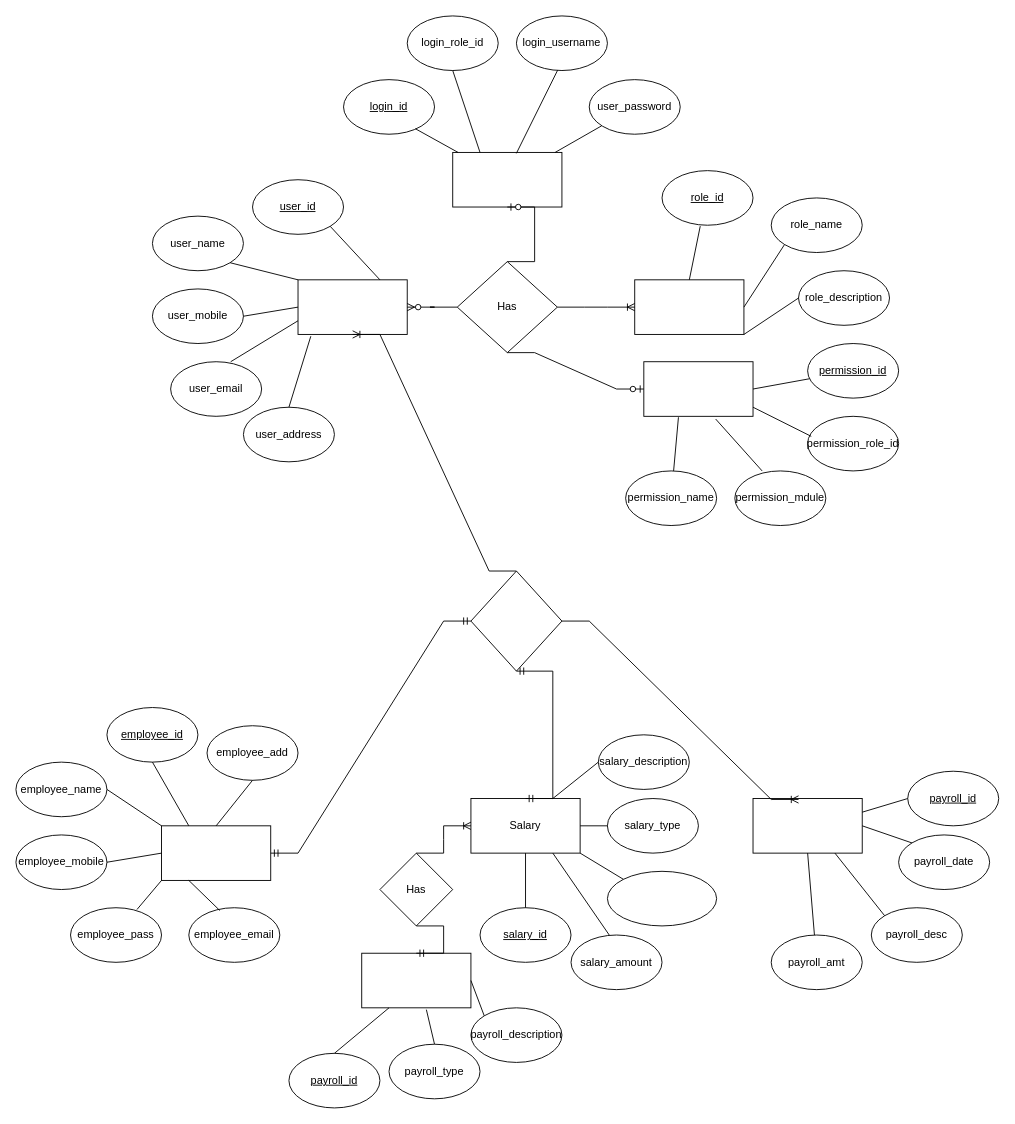
Image size: 1015x1124. Some labels were removed from this diagram. Here are the shapes that lost their labels. From the top down, the box of each, then its label:
(452, 152, 562, 207): Login
(297, 279, 407, 334): User
(634, 279, 744, 334): Roles
(643, 361, 753, 416): Permission
(470, 570, 562, 671): Manage
(752, 798, 862, 853): Paymets
(161, 825, 271, 880): Employee
(607, 870, 717, 926): salary_employee_id
(361, 952, 471, 1008): Payroll
